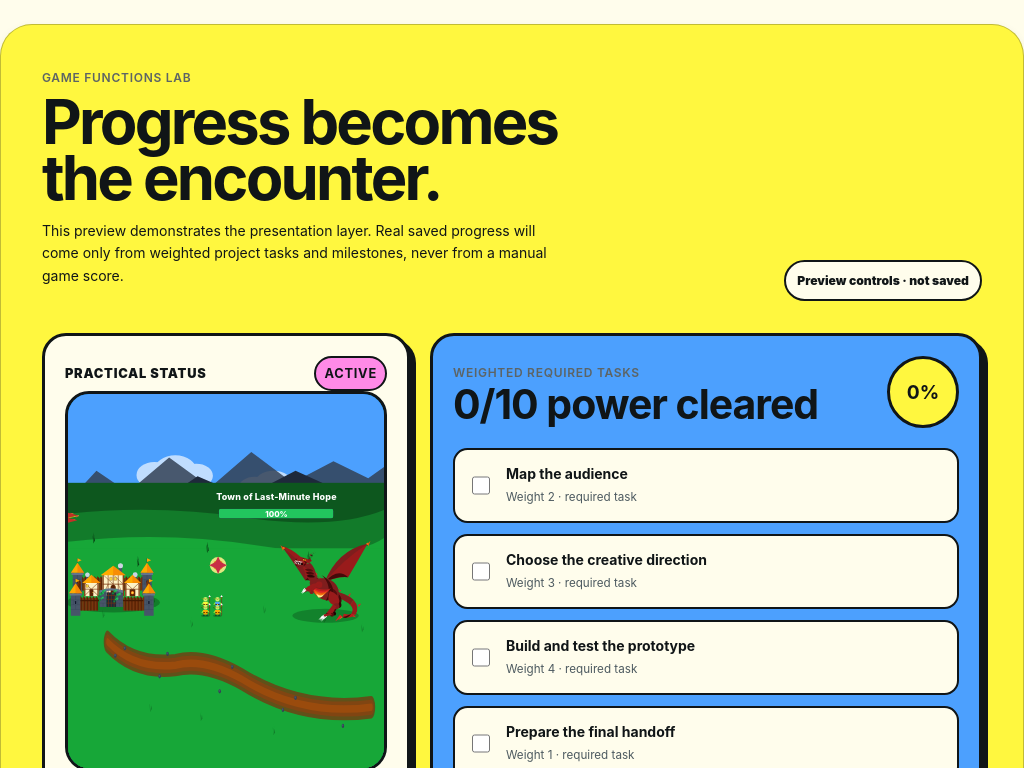
Test: GameLayerPreview › reduces boss health from weighted task completion
Click the checkbox labelled "Build and test the prototype".
click(481, 658)  # box [472,648,490,667]
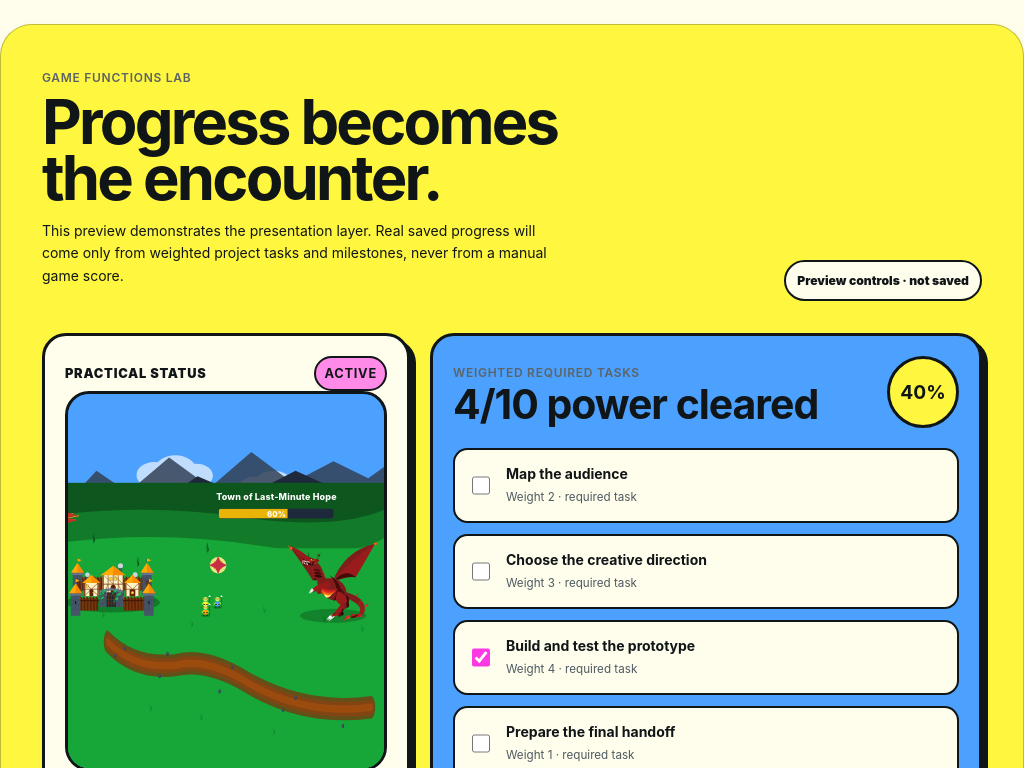
Check: the text "40%" is shown, box [887,356,959,428]
